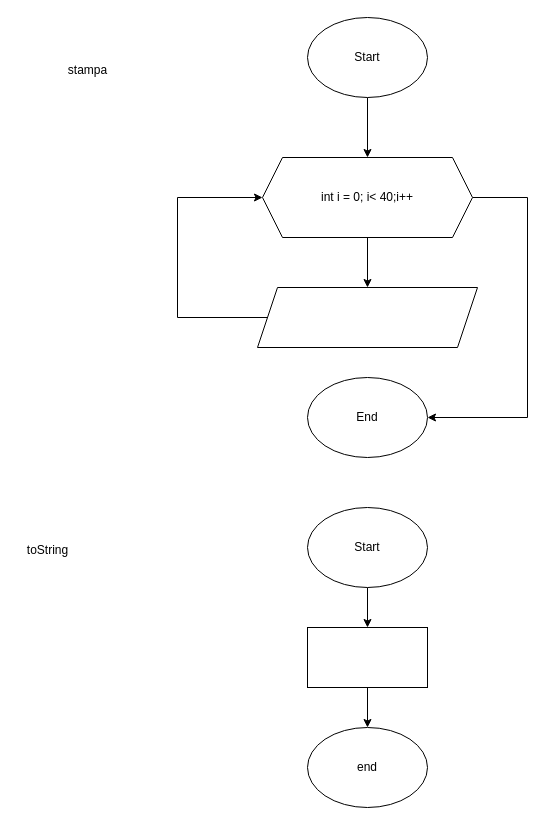
This 553x825 diagram has some shape labels left out. The shapes that lost their labels are listed below. From the top down, each one's box as (x1, y1, x2, y2) in pixels, then its label:
(256, 286, 478, 348): print mazzo[i].toString()
(306, 626, 428, 688): return this.valore + "di" + this.seme
